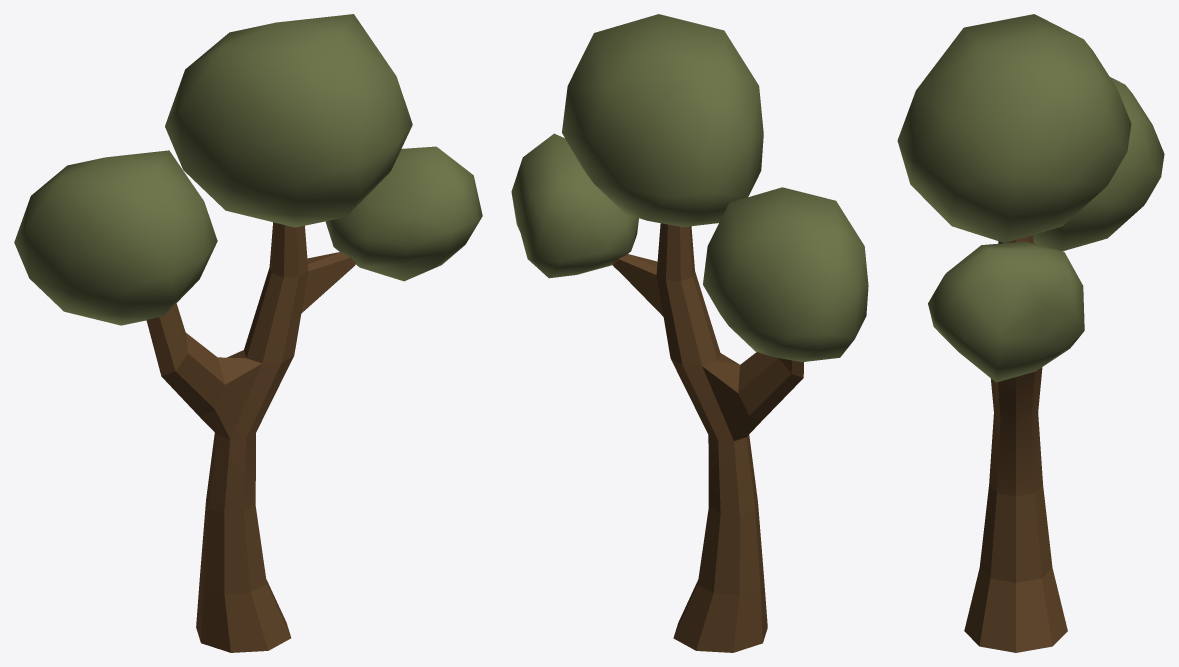
The model's file is tree_02.fbx.
3 views of the same model, side by side, from view 1: azimuth 30°, elevation 25°; view 2: azimuth 150°, elevation 25°; view 3: azimuth 270°, elevation 25° (orthographic). The views are drawn at different scales.
Visible parts, largest first — view 1: pPlatonic5, tree_02, pPlatonic6, pPlatonic2; view 2: pPlatonic5, tree_02, pPlatonic6, pPlatonic2; view 3: pPlatonic5, tree_02, pPlatonic2, pPlatonic6.
Part boxes in pixels (box(x1,y1,x2,y2)): pPlatonic5: box(165, 14, 412, 227); tree_02: box(146, 222, 355, 652); pPlatonic6: box(14, 150, 217, 325); pPlatonic2: box(325, 146, 482, 281); pPlatonic5: box(562, 14, 763, 227); tree_02: box(612, 223, 803, 652); pPlatonic6: box(703, 187, 868, 362); pPlatonic2: box(511, 133, 638, 278); pPlatonic5: box(897, 14, 1131, 242); tree_02: box(964, 235, 1067, 652); pPlatonic2: box(928, 241, 1084, 382); pPlatonic6: box(1033, 77, 1164, 251).
Size of the model in its own units: 4.09 by 5.84 by 2.27.
